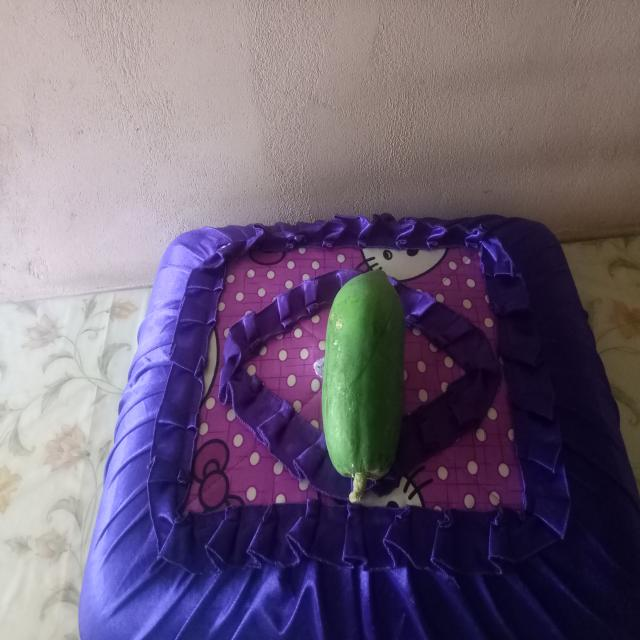Pepaya unrippen: (312, 256, 412, 492)
